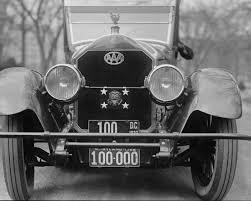Liscence Plate: (88, 145, 142, 166)
